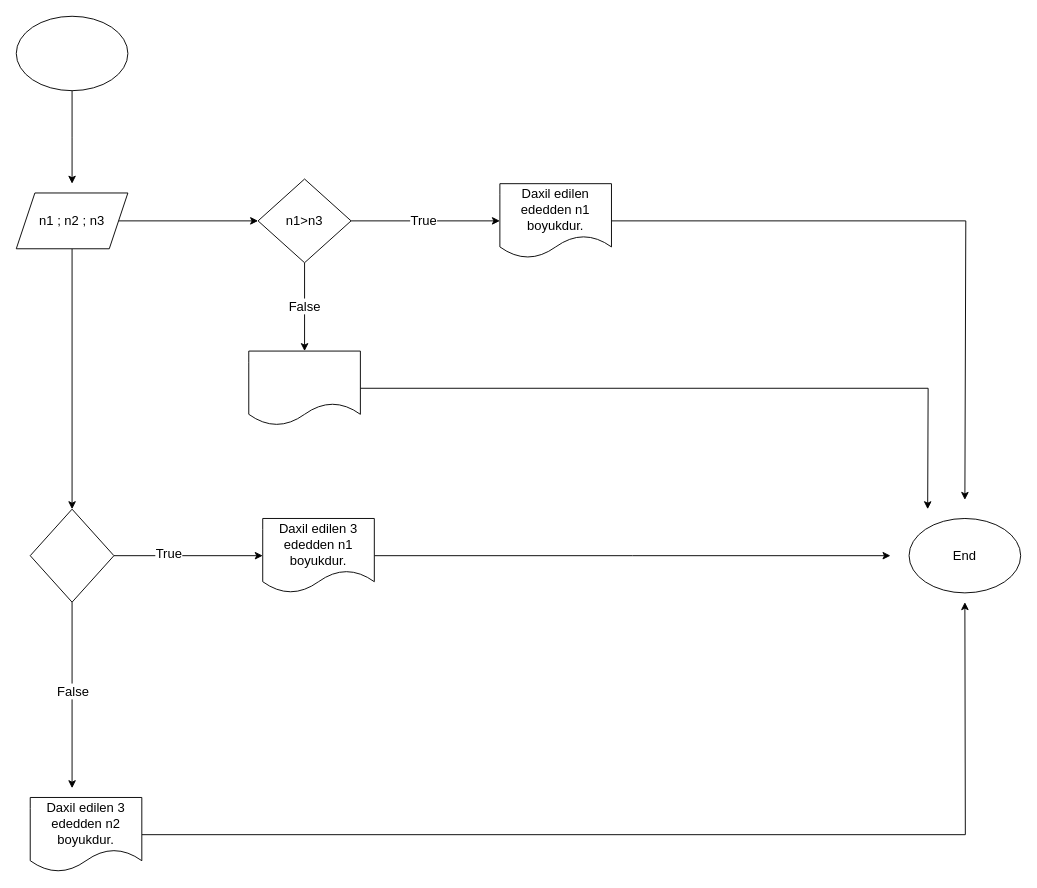
Image size: 1037x888. Some labels were removed from this diagram. The centre of each missing label's shape, as x and y in pixels:
Daxil edilen ededden n3 boyukdur.: point (304, 387)
n1>n2: point (71, 555)
Start: point (71, 53)
